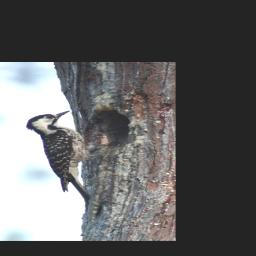Woodpecker: (24, 109, 117, 202)
